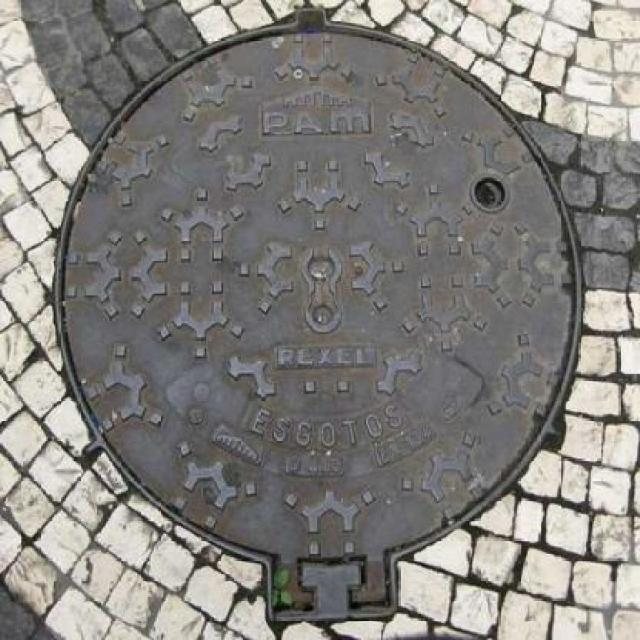Manhole: (55, 4, 620, 627)
